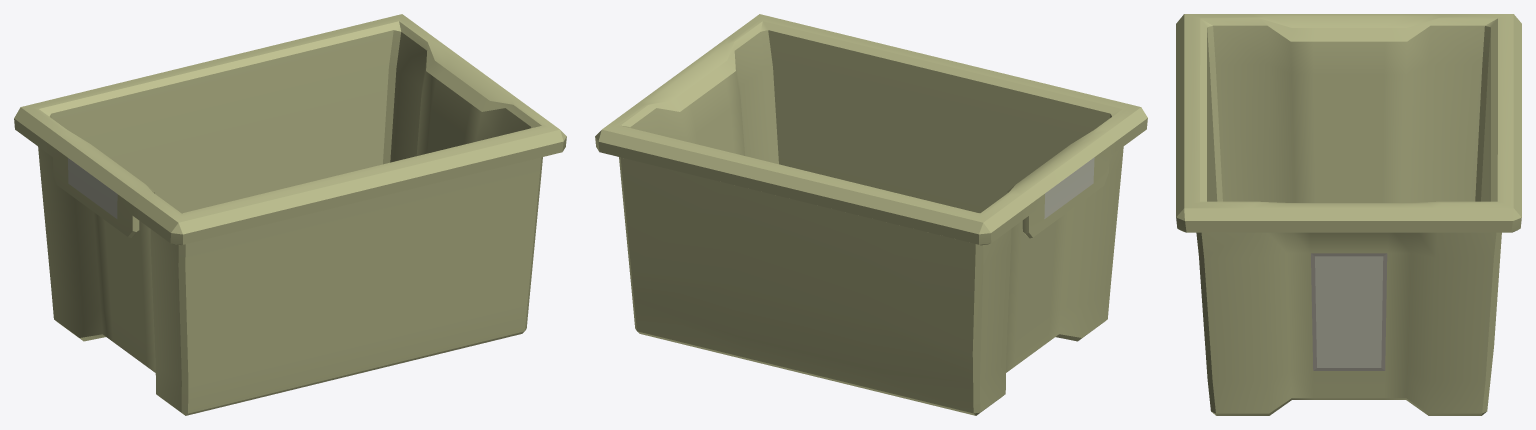
Rendered from Stackable_Plastic_Tray_2.fbx.
The picture shows the model from 3 angles, left to right: view 1: azimuth 30°, elevation 25°; view 2: azimuth 150°, elevation 25°; view 3: azimuth 270°, elevation 25°; orthographic projection. The views are drawn at different scales.
Parts seen in each view (by area): view 1: pCube2; view 2: pCube2; view 3: pCube2.
Part boxes in pixels (x1=…): pCube2: x1=14, y1=14, x2=566, y2=415; pCube2: x1=595, y1=14, x2=1147, y2=415; pCube2: x1=1176, y1=14, x2=1521, y2=415.
Size of the model in its own units: 0.5964 by 0.3038 by 0.4323.
